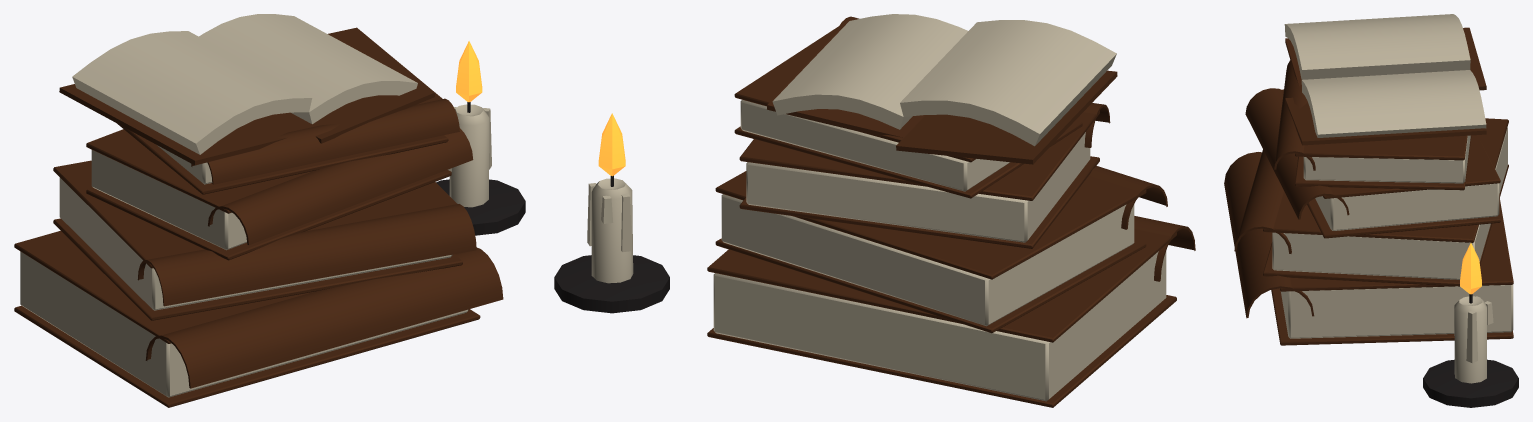
File: buecher.glb
3 renders of one model, left to right at view 1: azimuth 30°, elevation 25°; view 2: azimuth 150°, elevation 25°; view 3: azimuth 270°, elevation 25°, orthographic. The views are drawn at different scales.
Parts seen in each view (by area): view 1: buecher; view 2: buecher; view 3: buecher.
Part boxes in pixels (box(x1,y1,x2,y2)): buecher: box(14, 14, 525, 407); buecher: box(554, 14, 1195, 407); buecher: box(1224, 14, 1518, 407).
Size of the model in its own units: 0.4522 by 0.2299 by 0.2771.
